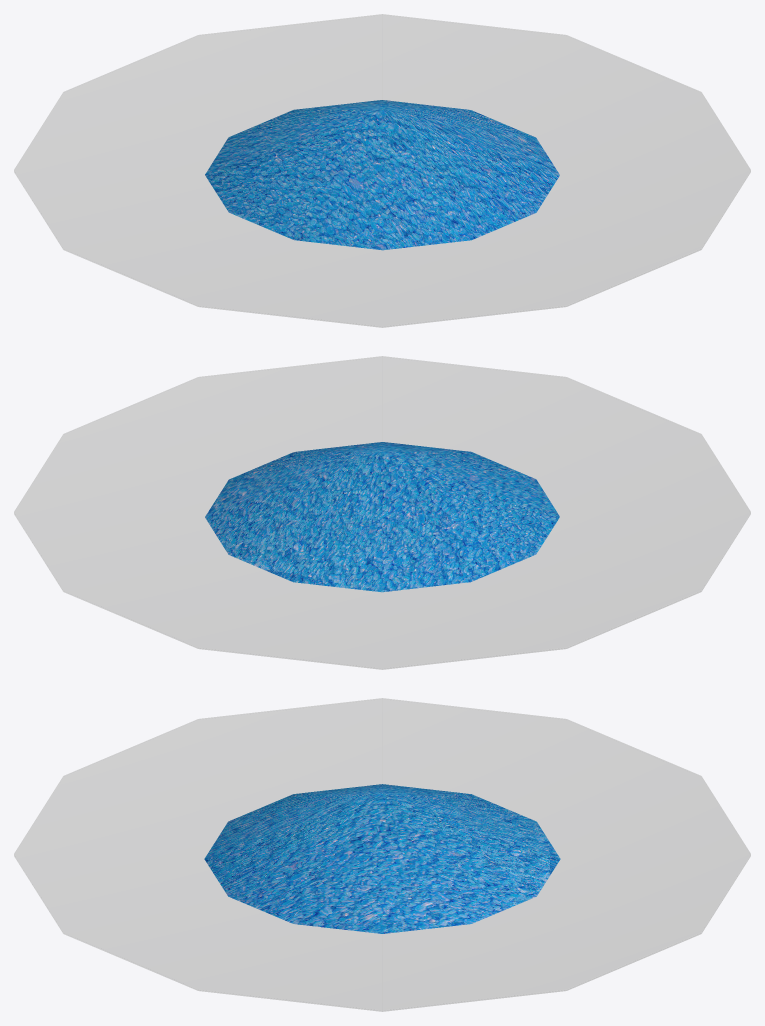
The model's file is Copper sulfate.fbx.
The picture shows the model from 3 angles, top to bottom: view 1: azimuth 30°, elevation 25°; view 2: azimuth 150°, elevation 25°; view 3: azimuth 270°, elevation 25°; orthographic projection.
Visible parts, largest first — view 1: blue_zinc_plate; view 2: blue_zinc_plate; view 3: blue_zinc_plate.
Boxes of the visible parts, x1,y1,x2,y2 form: blue_zinc_plate: (14, 14, 750, 327); blue_zinc_plate: (14, 356, 750, 669); blue_zinc_plate: (14, 698, 750, 1011).
Bounding box in the file's own units: 23.7 × 2.87 × 23.7.
Materials: 2 (1 with a texture image).
